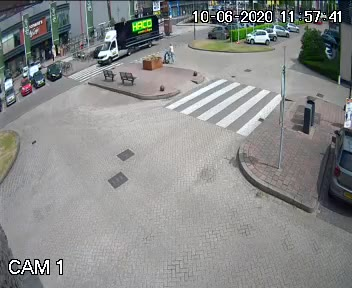car: (89, 13, 168, 64)
